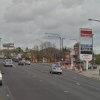Car: (45, 59, 71, 86)
